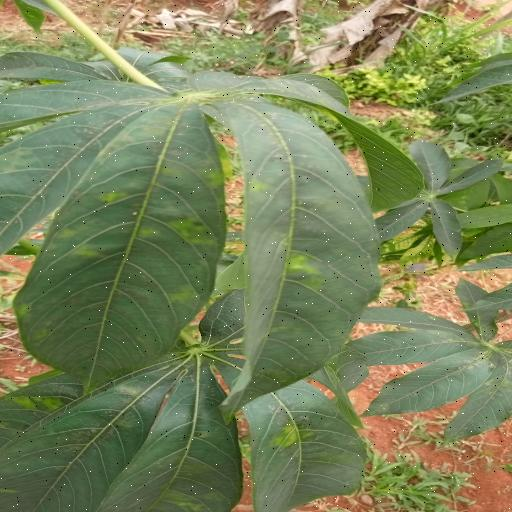Cassava_Root_Rot: (0, 53, 399, 361), (0, 303, 366, 512)
